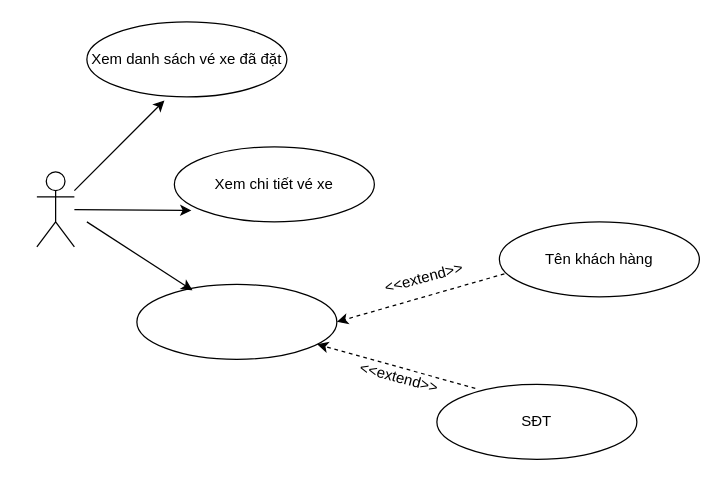
This 721x481 diagram has some shape labels left out. Here are the shapes that lost their labels. From the top down, the centre of each, then its label:
[55,209]: Nhân viên
[236,321]: Tìm vé xe
